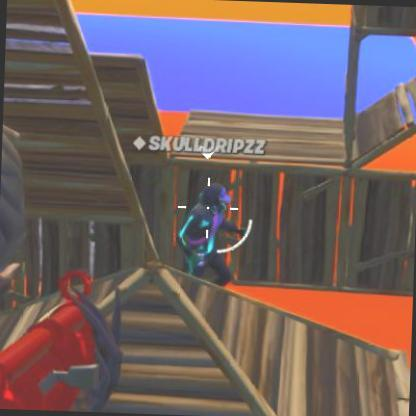person: (174, 182, 247, 286)
